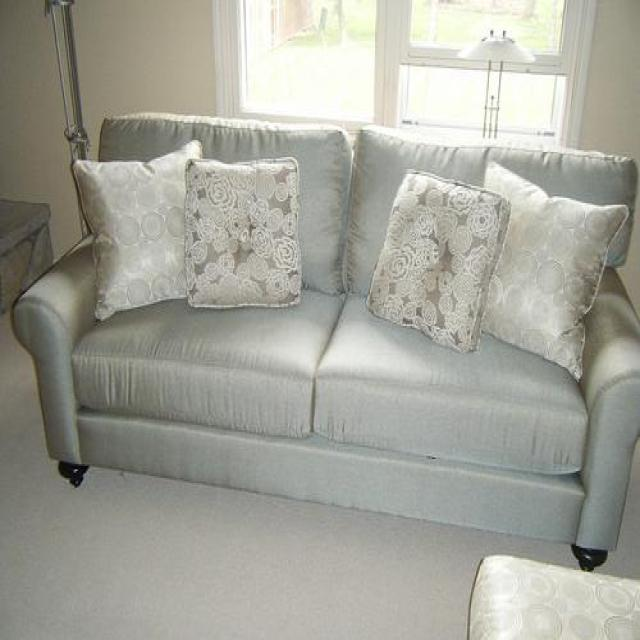sofa: (12, 107, 640, 574)
